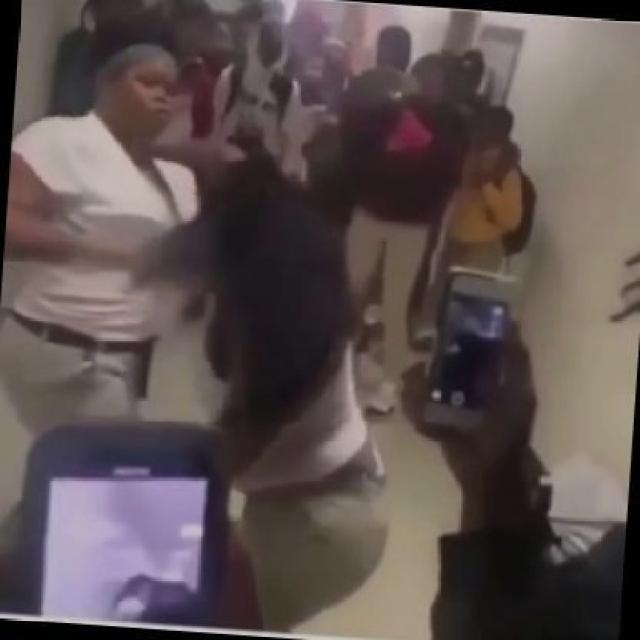fight: (3, 41, 390, 640)
